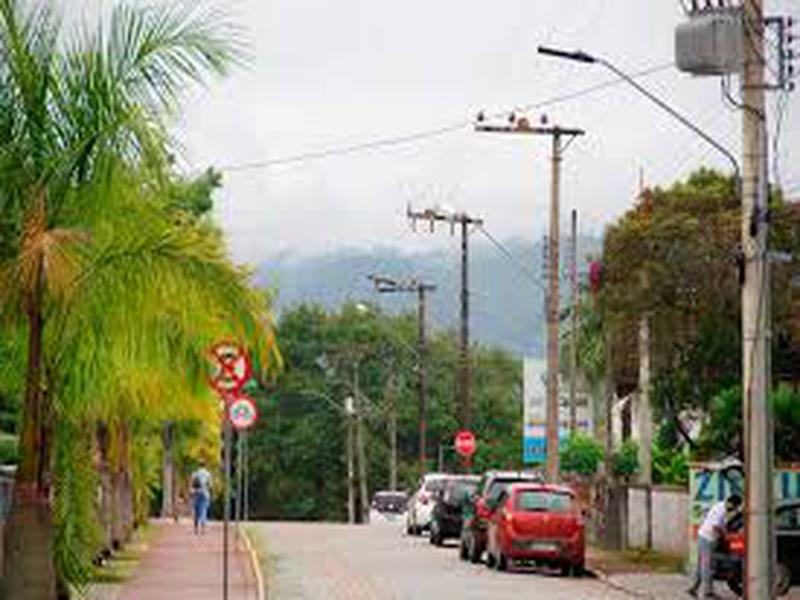IP: (536, 34, 711, 145), (441, 207, 540, 276), (347, 291, 428, 359), (299, 387, 355, 422)
